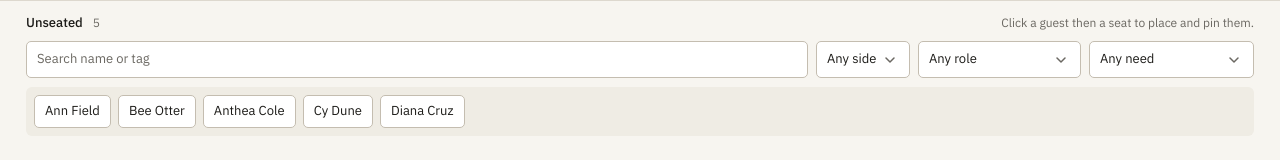
Test: UnseatedRail — the count states shown and hidden only once a filter narrows the list › states both how many are shown and how many are hidden once the search narrows the list
This screenshot has width=1280, height=160.
Type "an" into the dropdown labelled "Search name or tag" at {"x": 417, "y": 60}, box top-left (26, 41), bottom-right (808, 78)
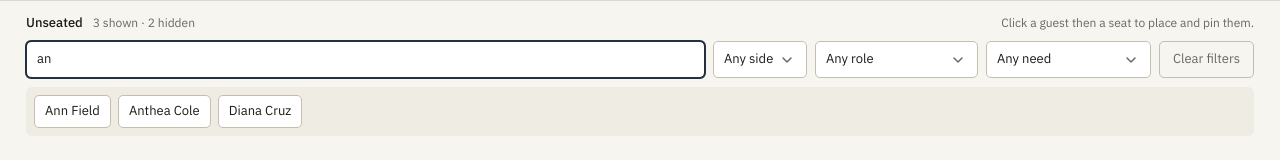
Check: the text "3 shown · 2 hidden" is shown, box top-left (93, 13), bottom-right (195, 32)
